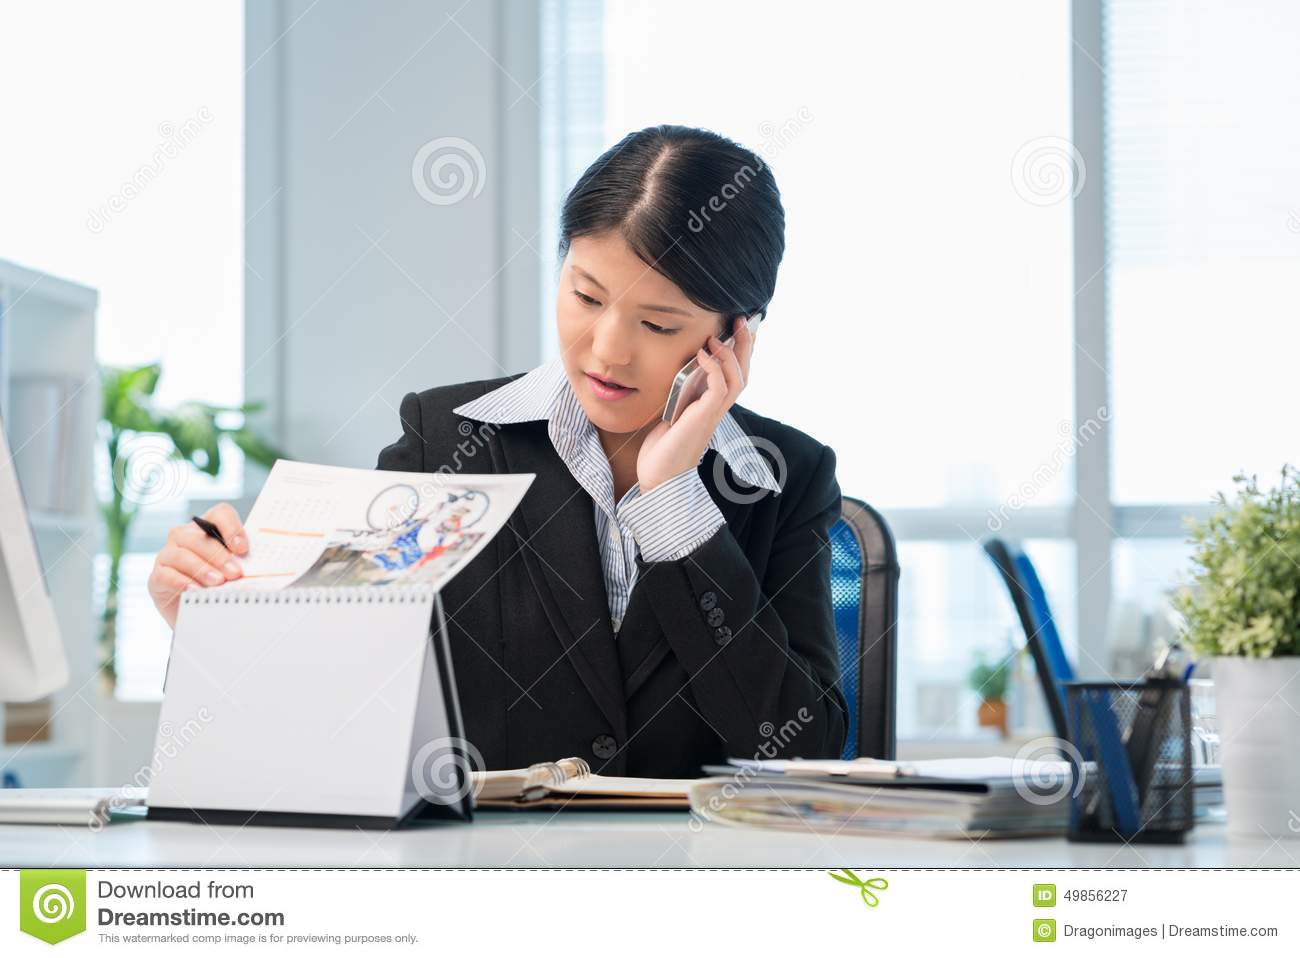phone: (661, 308, 761, 426)
talk: (554, 261, 762, 486)
